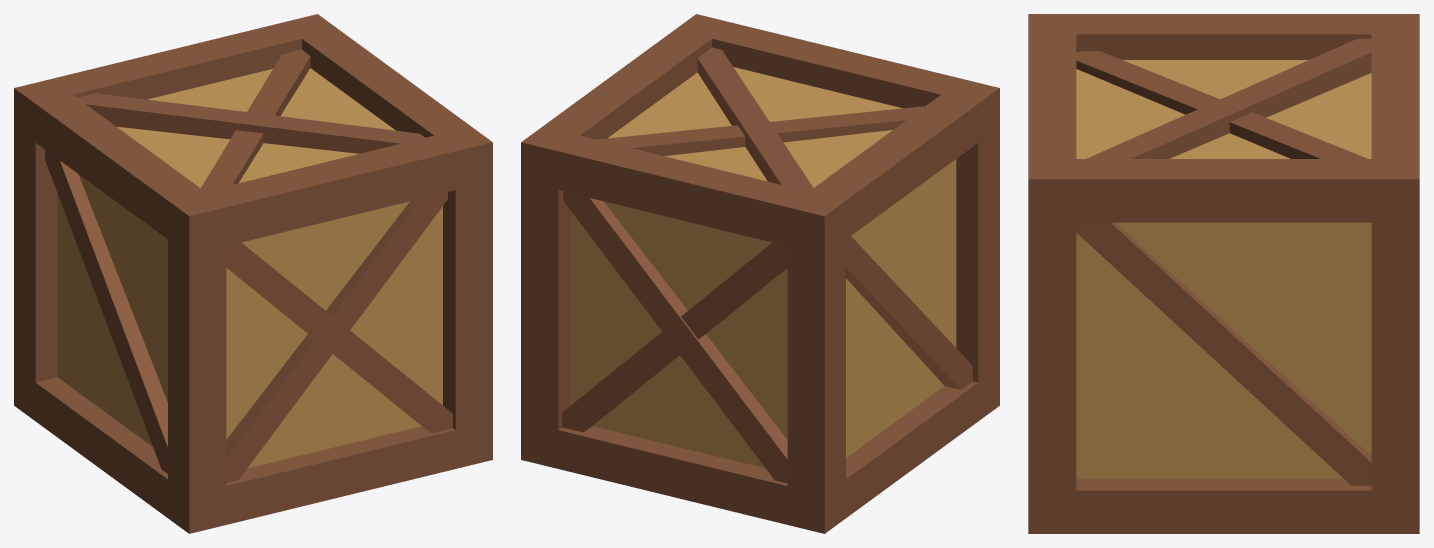
Rendered from BoxWooden_1_B.fbx.
3 views of the same model, side by side, from view 1: azimuth 30°, elevation 25°; view 2: azimuth 150°, elevation 25°; view 3: azimuth 270°, elevation 25° (orthographic). The views are drawn at different scales.
Parts seen in each view (by area): view 1: BoxWooden_1_B; view 2: BoxWooden_1_B; view 3: BoxWooden_1_B.
Boxes of the visible parts, x1=… form: BoxWooden_1_B: x1=14, y1=14, x2=492, y2=533; BoxWooden_1_B: x1=521, y1=14, x2=999, y2=533; BoxWooden_1_B: x1=1028, y1=14, x2=1419, y2=533.
Size of the model in its own units: 97.11 by 97.11 by 97.11.
